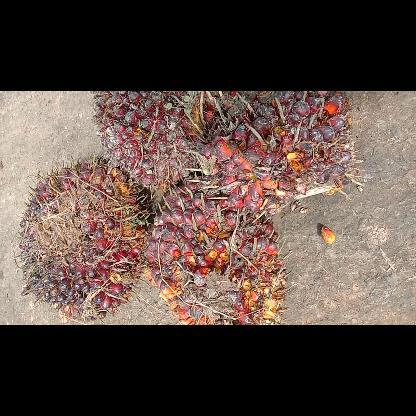Kurang masak: (16, 152, 150, 322), (88, 92, 242, 194)
TBS masak: (182, 90, 362, 218), (142, 172, 292, 324)
